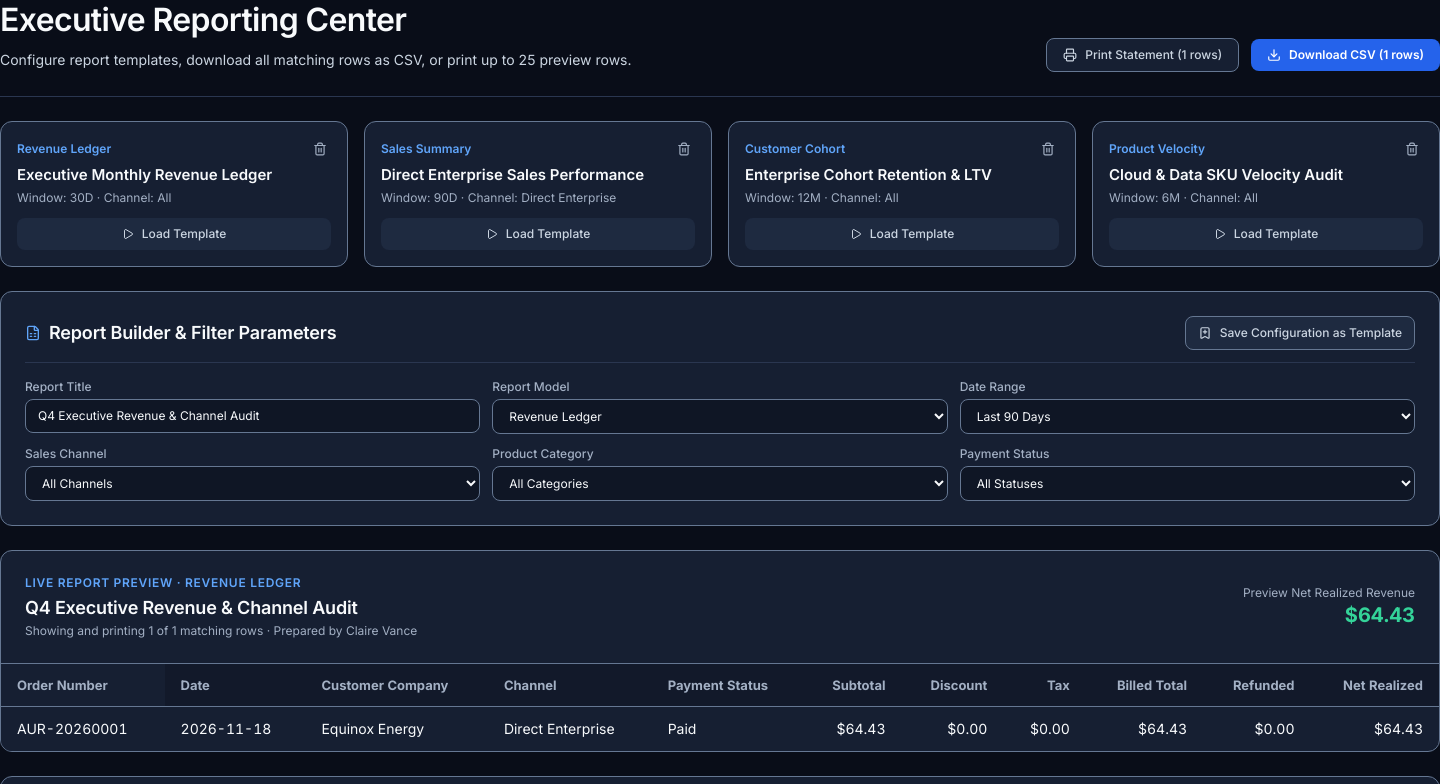
Test: historical Product Velocity › counts legacy lines with a missing category explicitly without using the current catalog category
This screenshot has width=1440, height=784.
Select "All Time" in the dropdown with id "report-date-range": (1187, 416) [960,399,1415,434]
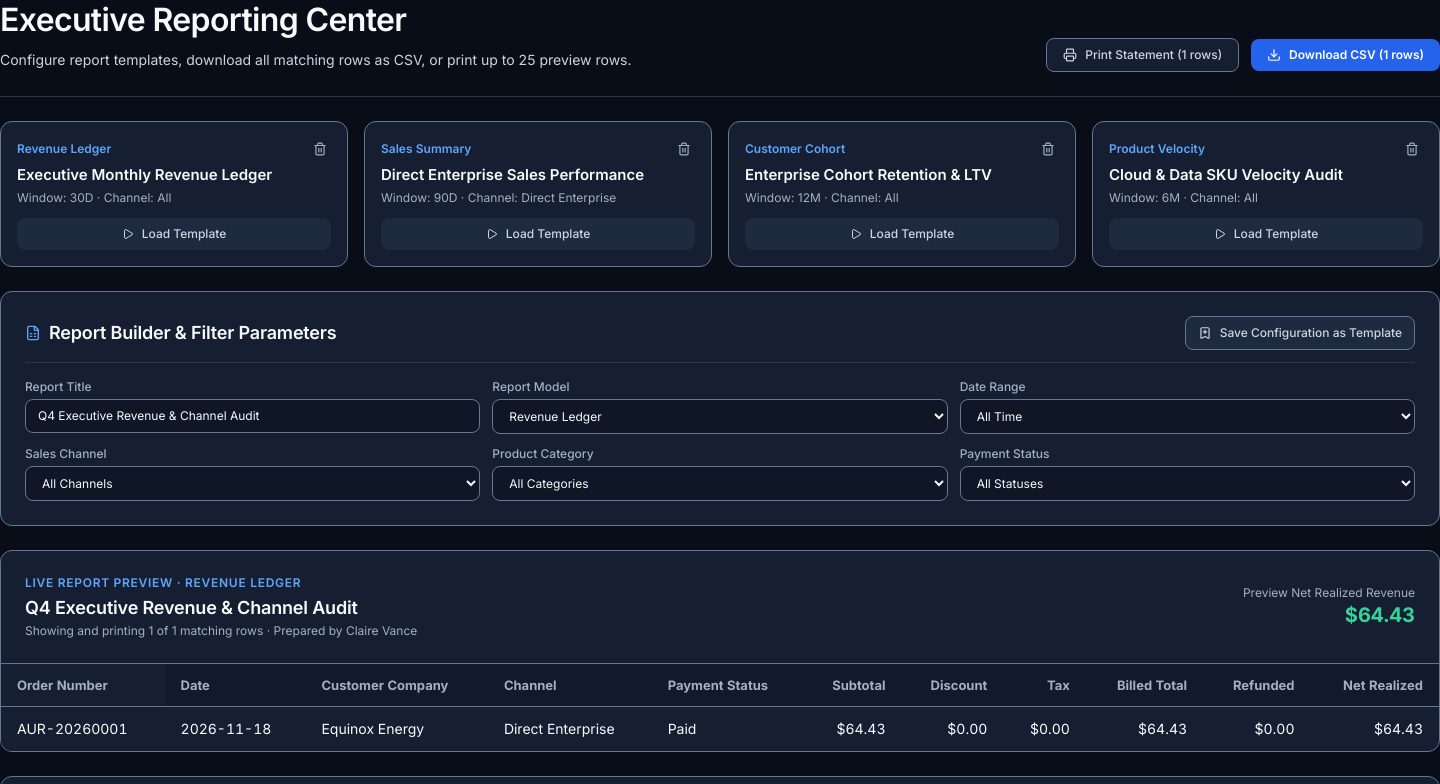
Select "Product Velocity" in the dropdown with id "report-model": (720, 416) [492,399,948,434]
(page scrolled)
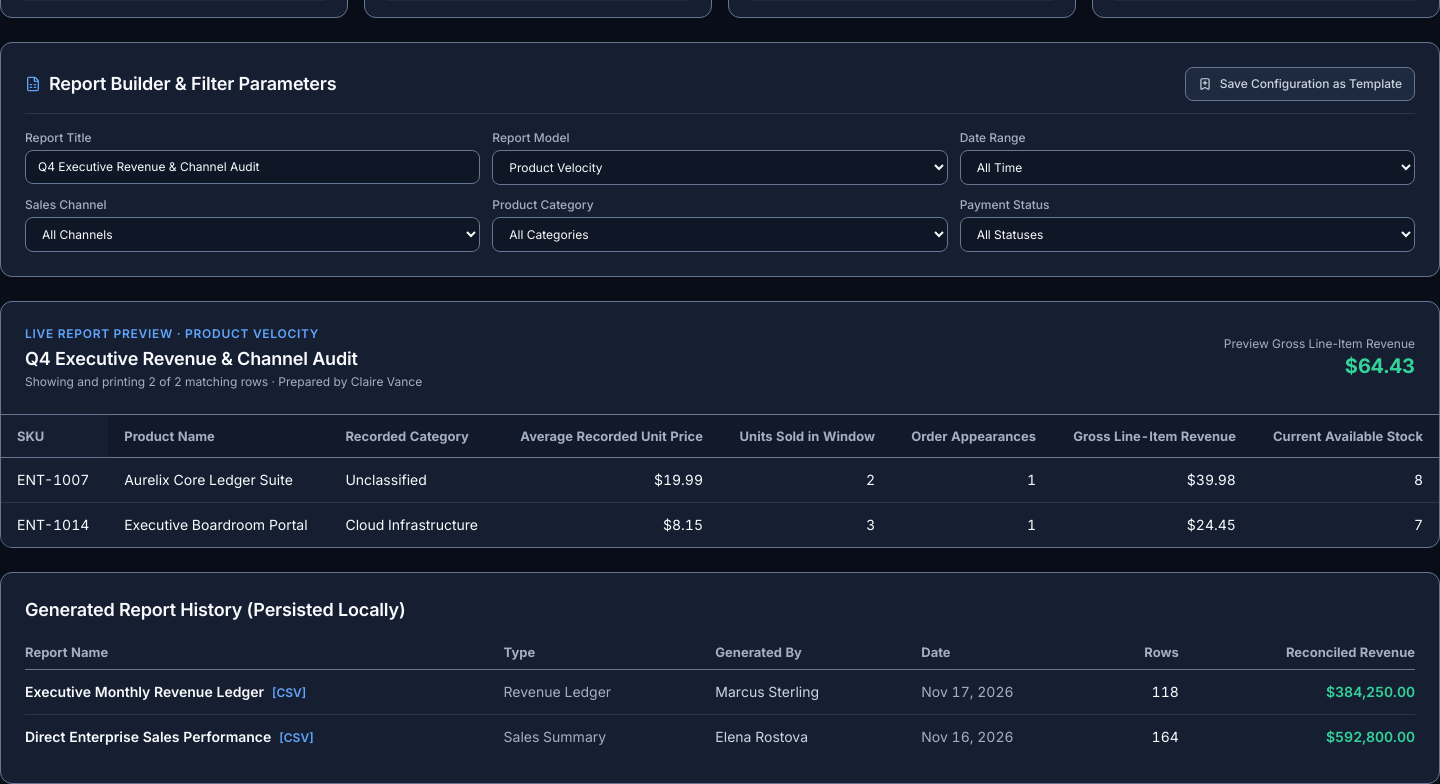
Expected: the table that starts with "SKU" shows "Unclassified", [345,471,427,488]
Expected: the table that starts with "SKU" shows "$39.98", [1187,471,1236,488]
